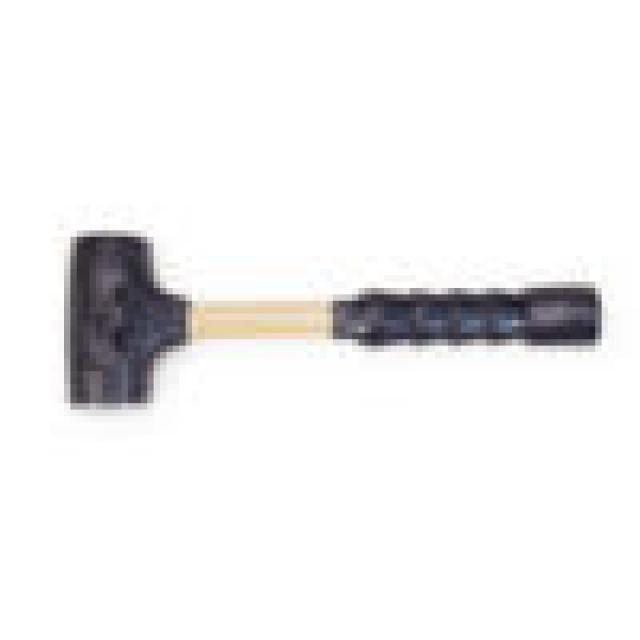hammer: (58, 222, 606, 416)
